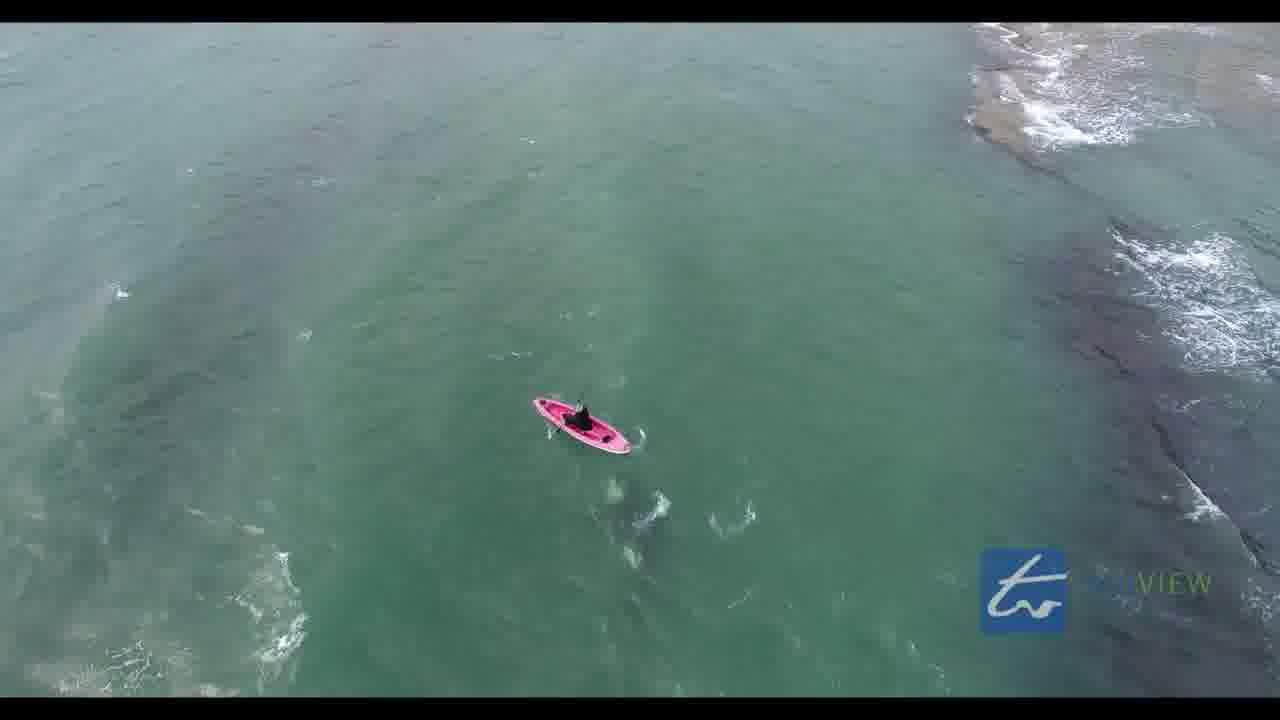swimmer: (568, 393, 590, 426)
